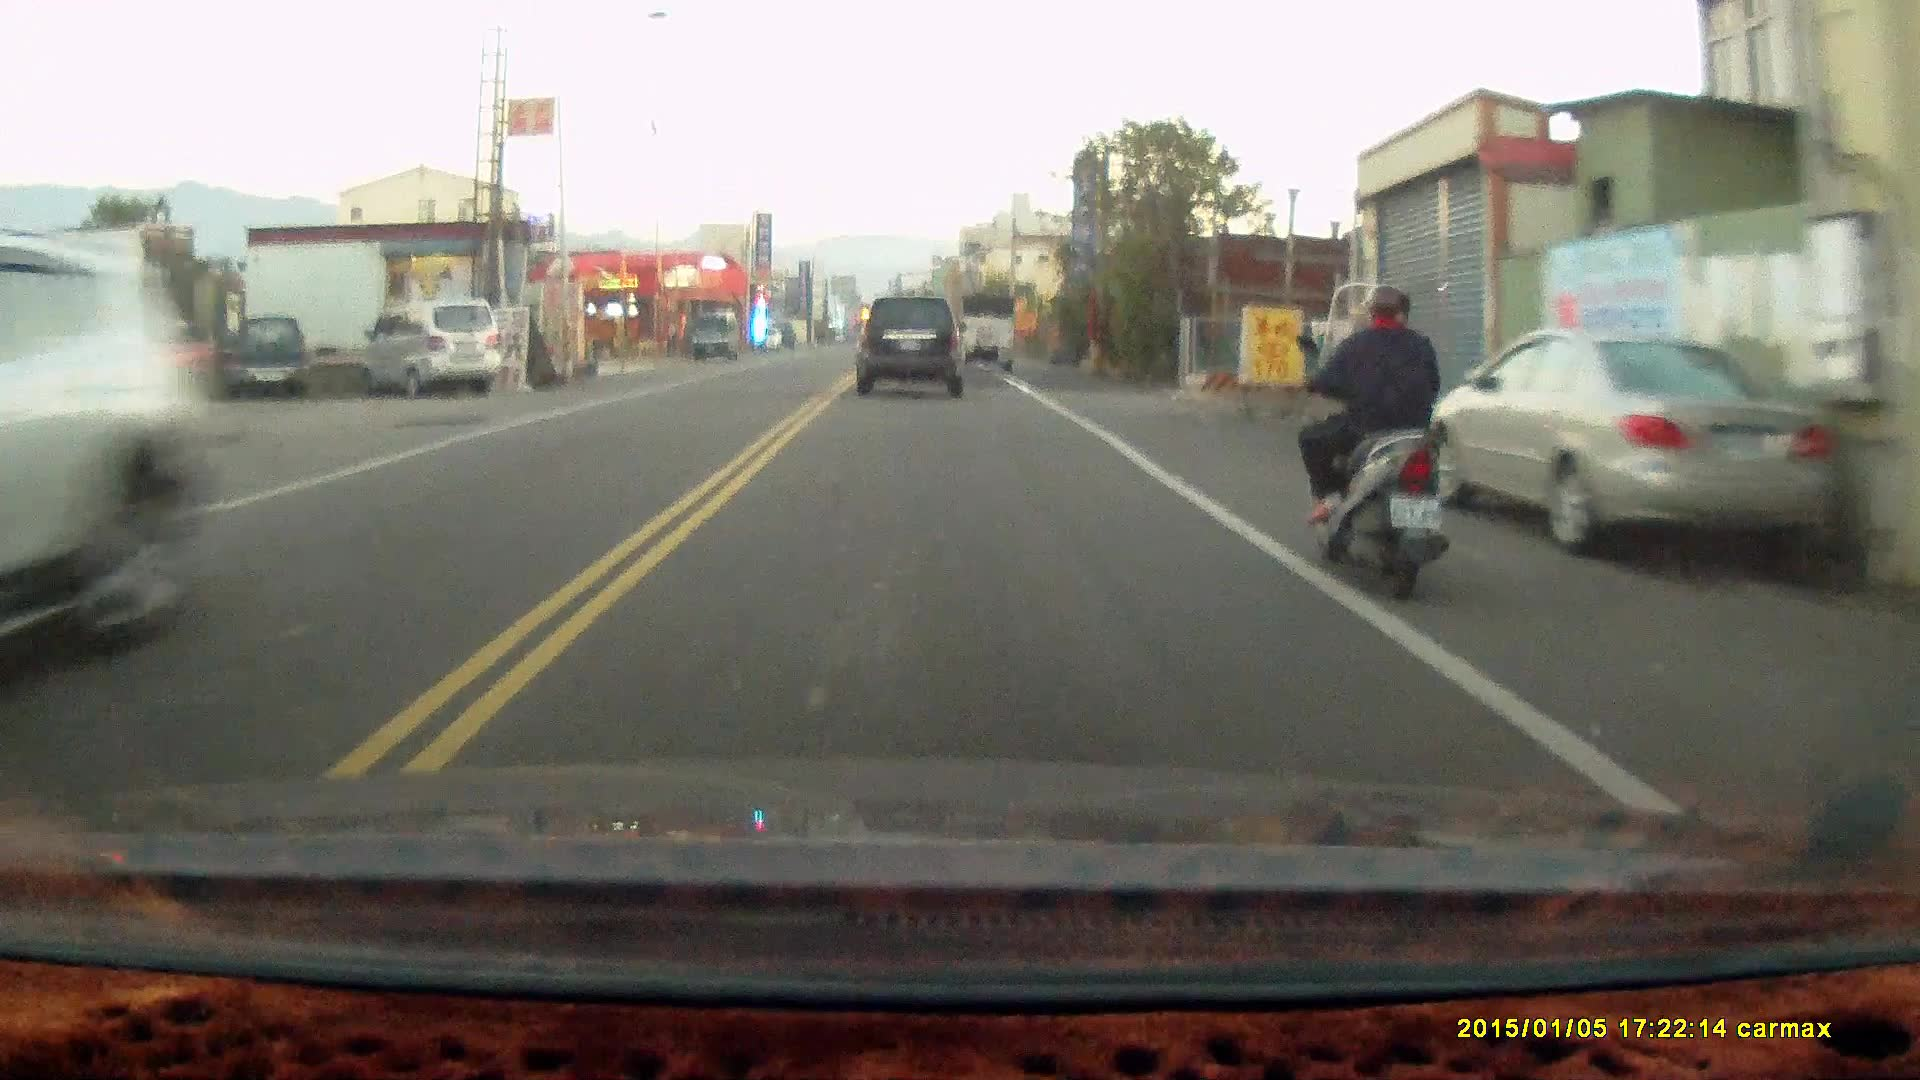rider: (1294, 265, 1450, 588)
vehicle: (1, 229, 221, 703), (1417, 326, 1847, 559), (363, 298, 504, 397), (855, 289, 972, 395), (228, 310, 309, 398), (958, 294, 1019, 371)
